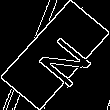N_NW: (21, 23, 89, 87)
